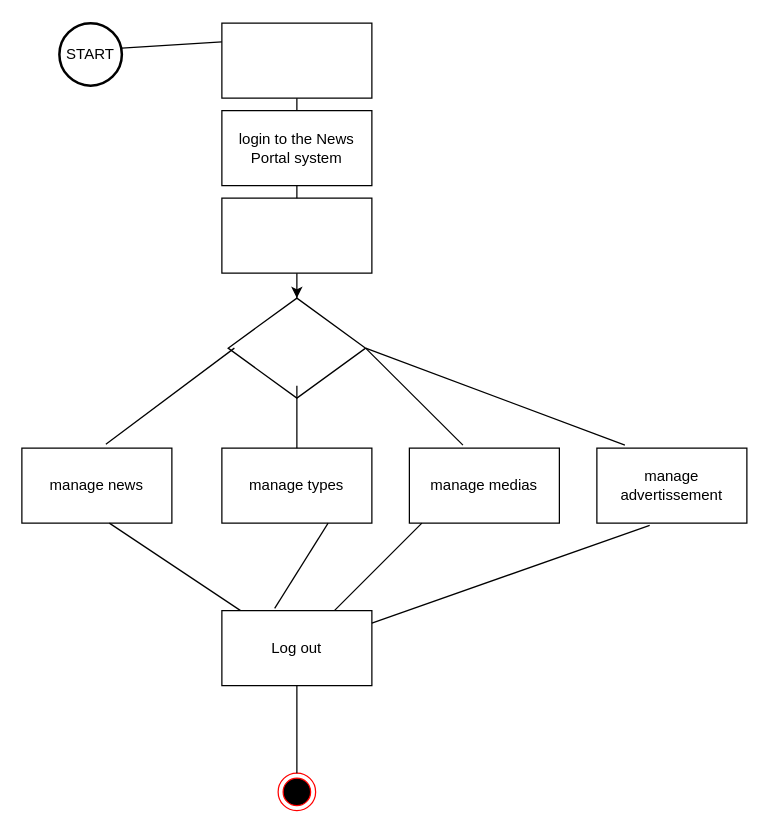
This 769x833 diagram has some shape labels left out. Each missing label, with the centre of its shape:
Check permission: the point at 296,347
check user level and permissions: the point at 296,235
Enter to the website: the point at 296,60
